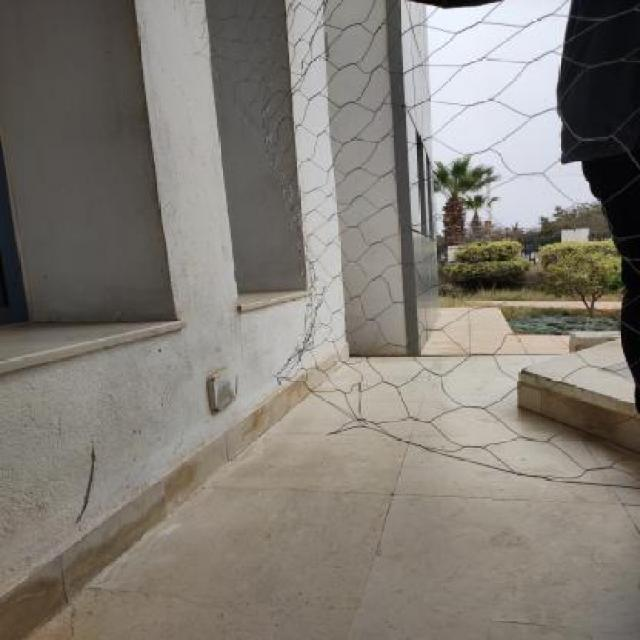fence line: (131, 68, 383, 554)
